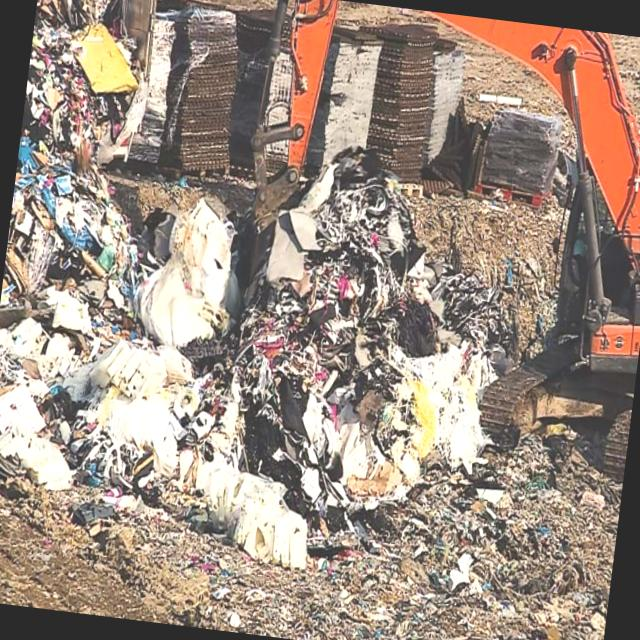garbage: (0, 0, 539, 594)
